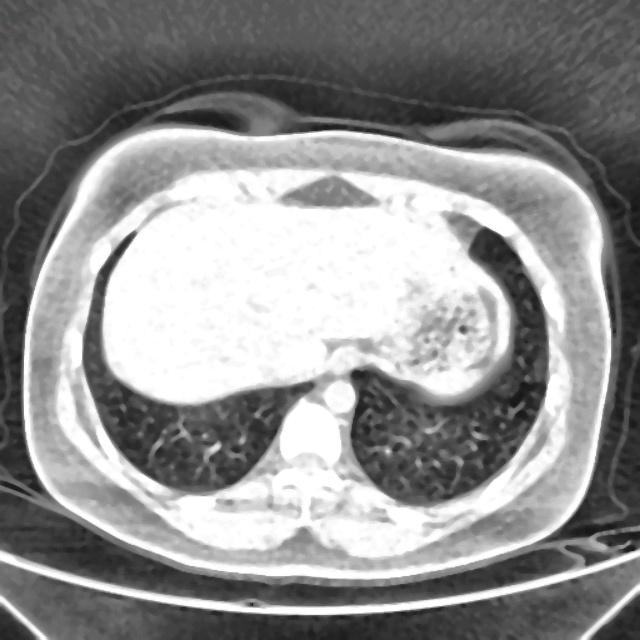covid: (22, 113, 615, 585)
